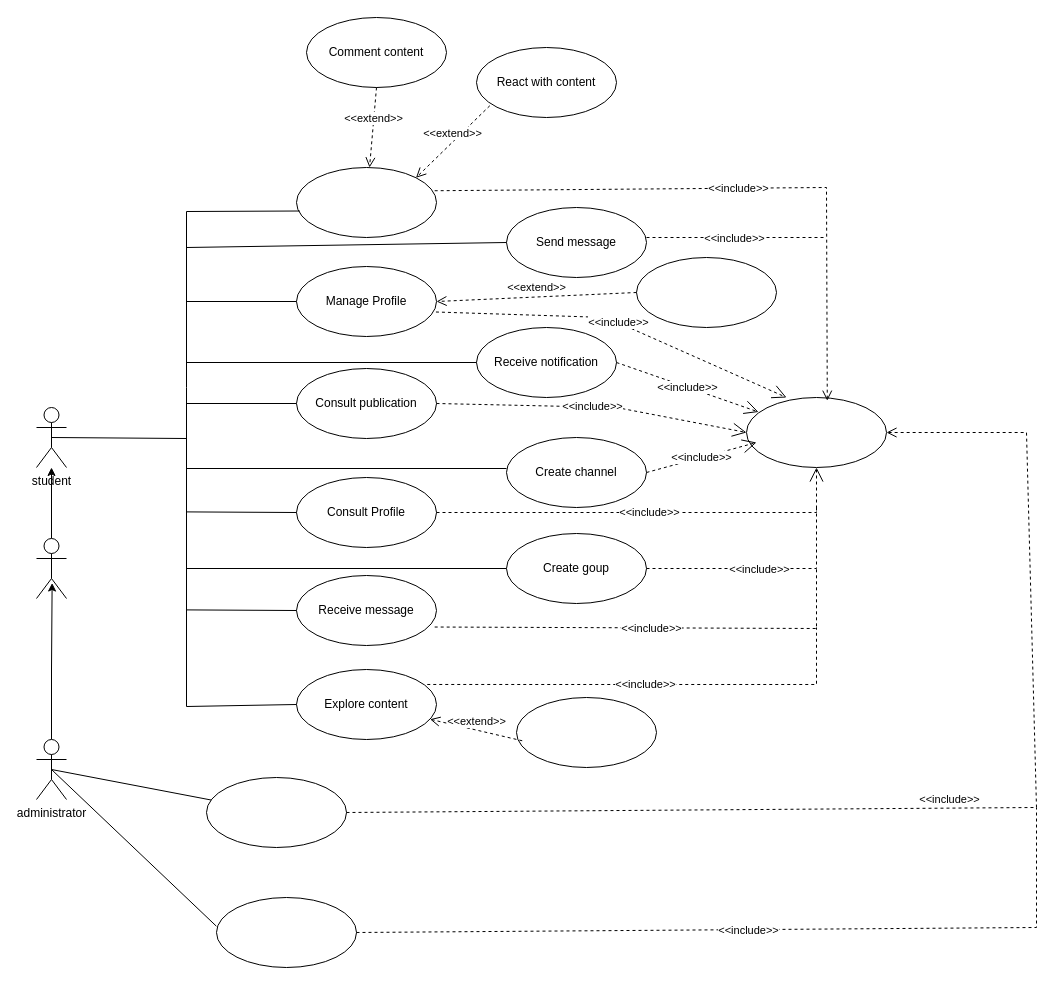
The diagram is 1064 pixels wide and 985 high, and some of its shapes have lost their labels. Here are the shapes that lost their labels. From the top down, the centre of each, then its label:
At point (366, 202): "Publish content".
At point (706, 292): "Follow users".
At point (816, 432): "Authentification".
At point (51, 568): "concierge".
At point (586, 732): "Search profile".
At point (276, 812): "Add concierges".
At point (286, 932): "Add students".
